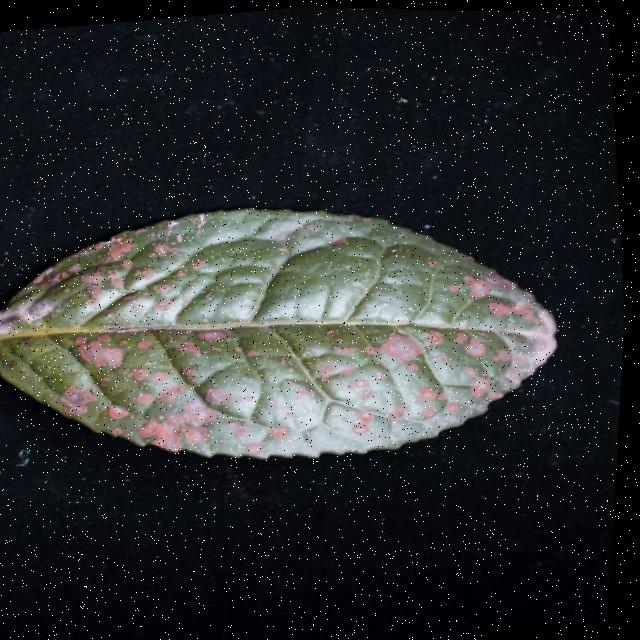Tea red rust: (37, 191, 557, 461)
